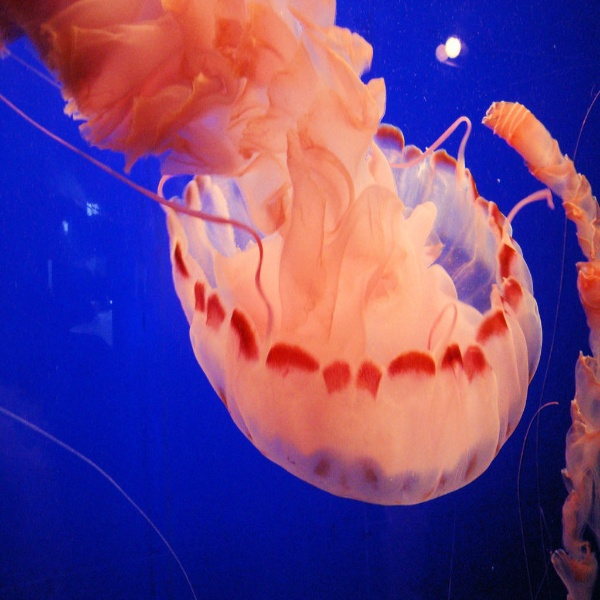Jellyfish: (45, 11, 567, 511), (484, 93, 599, 599)
